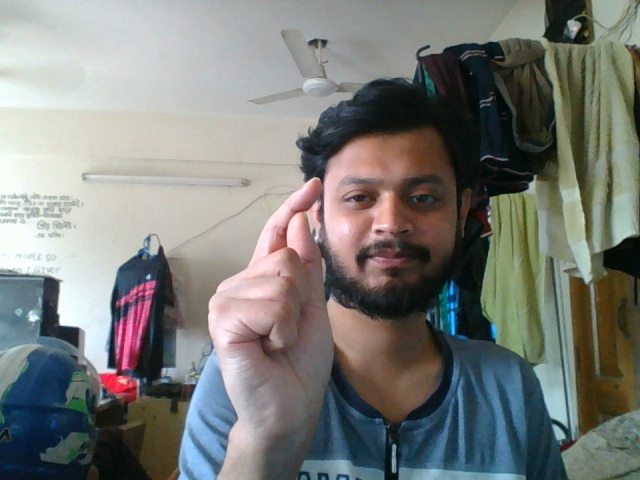tha: (200, 173, 344, 442)
